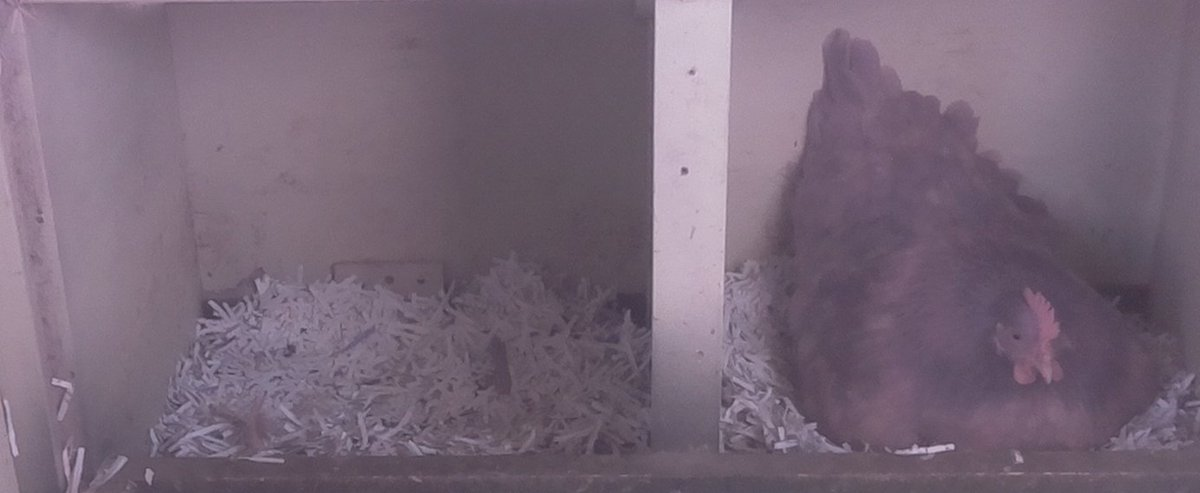hen: (773, 21, 1167, 455)
